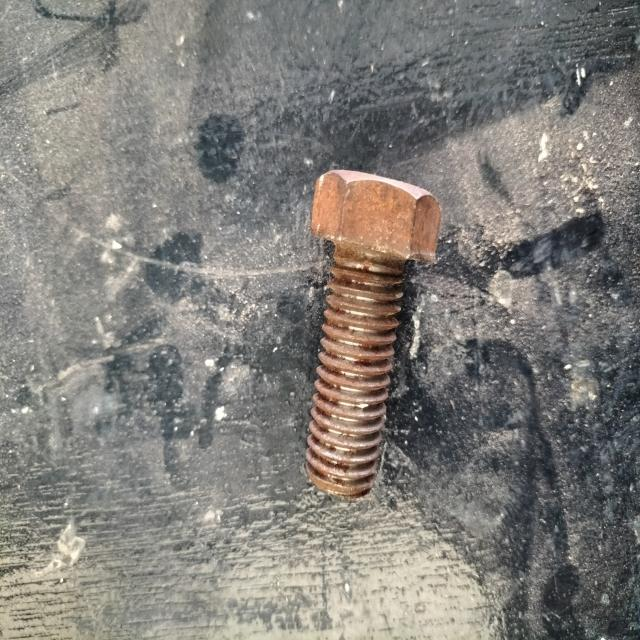bolt: (304, 169, 442, 499)
